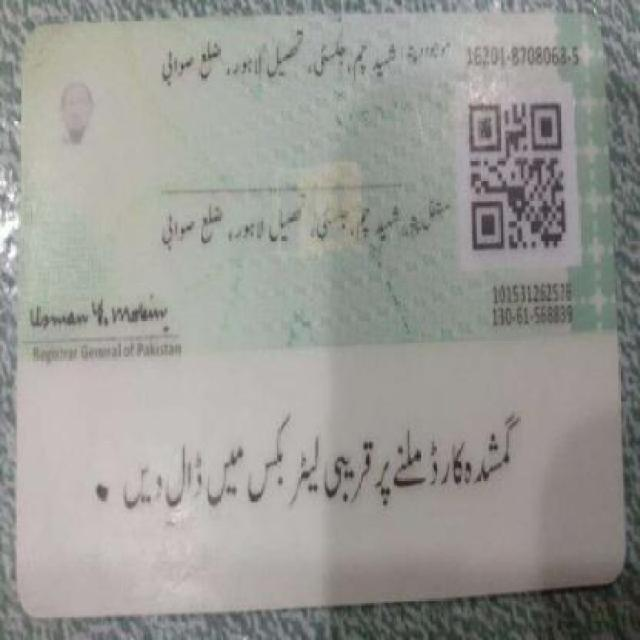Back: (18, 17, 624, 601)
